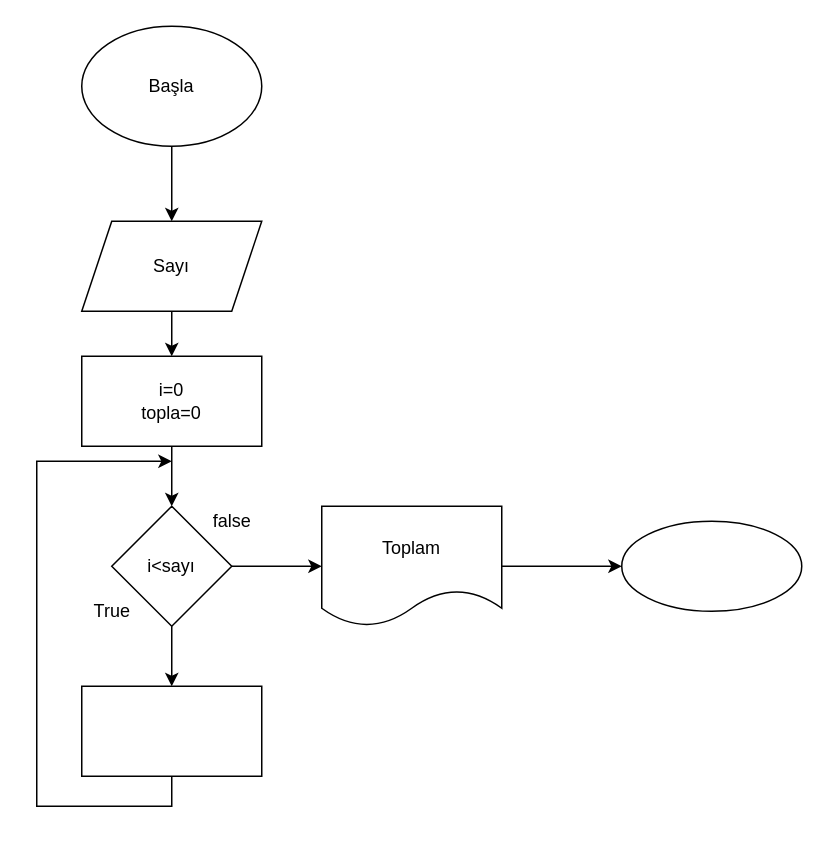
This 828x845 diagram has some shape labels left out. The centre of each missing label's shape, as x and y in pixels:
"Dur" goes at (x=711, y=565).
"toplam=toplam+i i=i+1" goes at (x=171, y=730).
